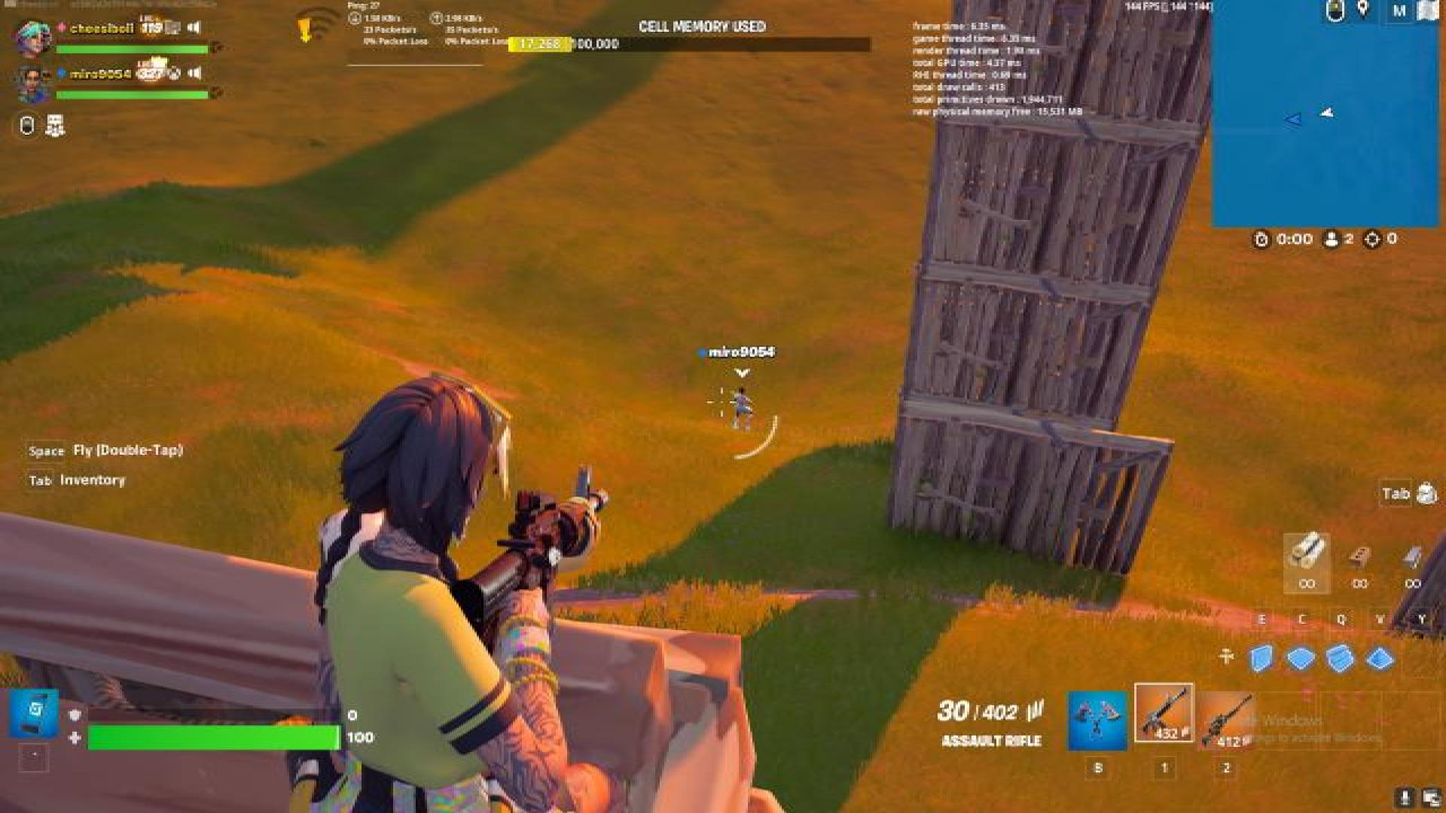player: (300, 556, 567, 813), (728, 385, 755, 430)
